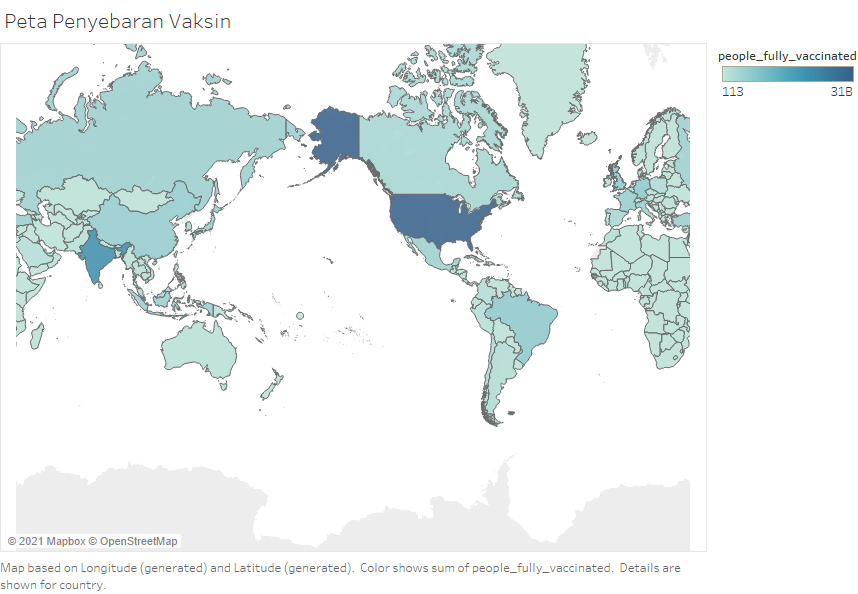

What the dashboard file says about the page in this screenshot:
{"tool":"tableau","page":{"name":"Dashboard 1","canvas":[1000,800],"ordinal":0},"visuals":[{"type":"worksheet","title":"Sheet 7","mark":"Automatic","rows":["country"],"cols":["people_fully_vaccinated"],"box":[8,8,984,784]}]}

Visuals, with their boxes on the page's 1000x800 design canvas (x1, y1, x2, y2). These are canvas units, not pixel positions in the 858x594 screenshot, which may show the page scaled, cropped or inside an application window:
"Sheet 7" worksheet: box(8, 8, 992, 792)
